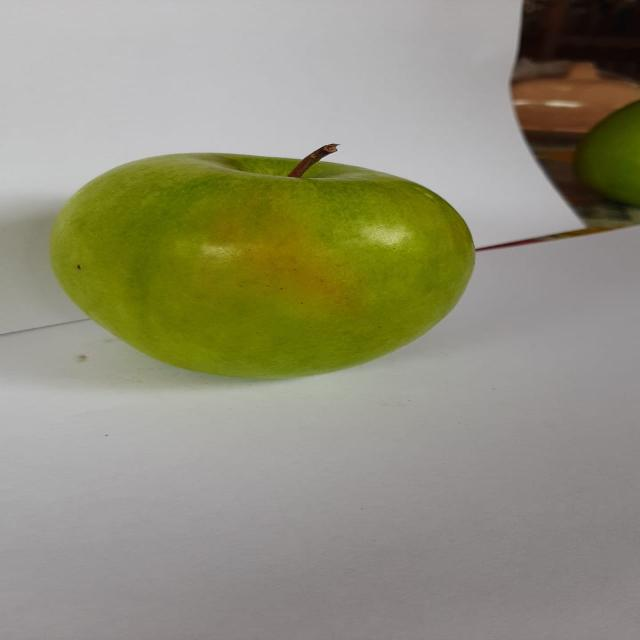50-_ripeness: (40, 134, 492, 387)
